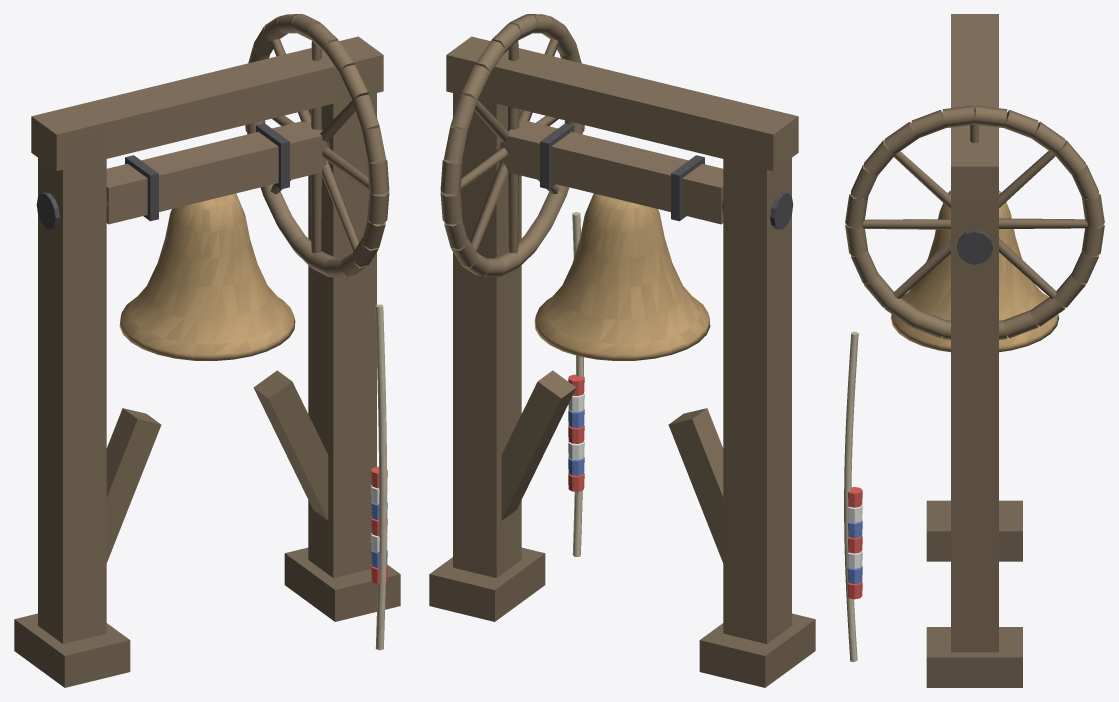
The model's file is storm_bell_a.glb.
3 renders of one model, left to right at view 1: azimuth 30°, elevation 25°; view 2: azimuth 150°, elevation 25°; view 3: azimuth 270°, elevation 25°, orthographic. The views are drawn at different scales.
Parts seen in each view (by area): view 1: body, bell, rope; view 2: body, bell, rope; view 3: body, bell, rope.
Boxes of the visible parts, <box> form: body: <box>14,36,400,687</box>; bell: <box>106,14,389,360</box>; rope: <box>371,304,387,650</box>; body: <box>429,36,815,687</box>; bell: <box>440,14,723,360</box>; rope: <box>568,212,584,556</box>; body: <box>926,14,1022,687</box>; bell: <box>845,105,1104,352</box>; rope: <box>844,331,862,661</box>.
Size of the model in its own units: 1.54 by 2.54 by 1.08.
